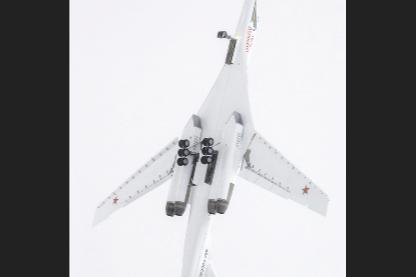Su34: (92, 0, 331, 275)
